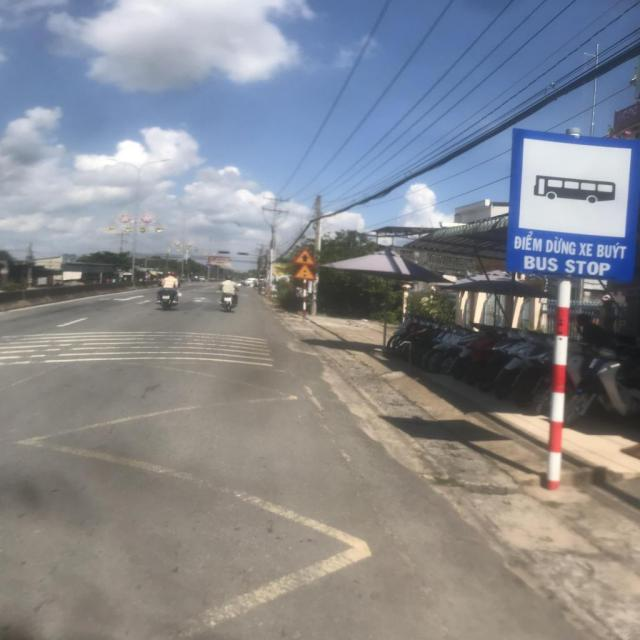cam_xe_di_nguoc_chieu: (207, 261, 211, 265)
giao_nhau_co_tin_hieu_den: (293, 263, 317, 281)
giao_nhau_voi_duong_khong_uu_tien: (292, 248, 320, 266)
huong_phai_di_vuot_chuong_ngai_vat_phai: (207, 265, 211, 268)
khac: (505, 129, 640, 282)
